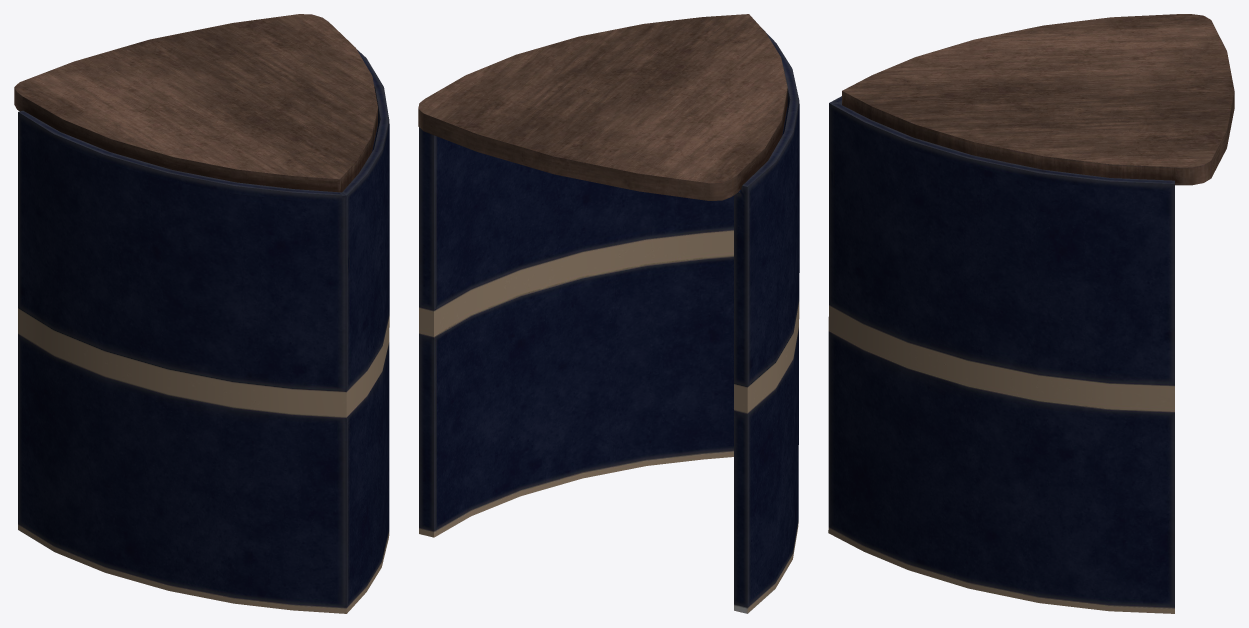
3 renders of one model, left to right at view 1: azimuth 30°, elevation 25°; view 2: azimuth 150°, elevation 25°; view 3: azimuth 270°, elevation 25°, orthographic. The views are drawn at different scales.
Parts seen in each view (by area): view 1: turri (×2); view 2: turri (×2); view 3: turri (×2).
Part boxes in pixels (x1=…): turri (×2): x1=14, y1=14, x2=389, y2=613; turri (×2): x1=418, y1=14, x2=799, y2=613; turri (×2): x1=828, y1=14, x2=1234, y2=613.
Size of the model in its own units: 1.57 by 2 by 1.66.
1 material, 1 textured.
